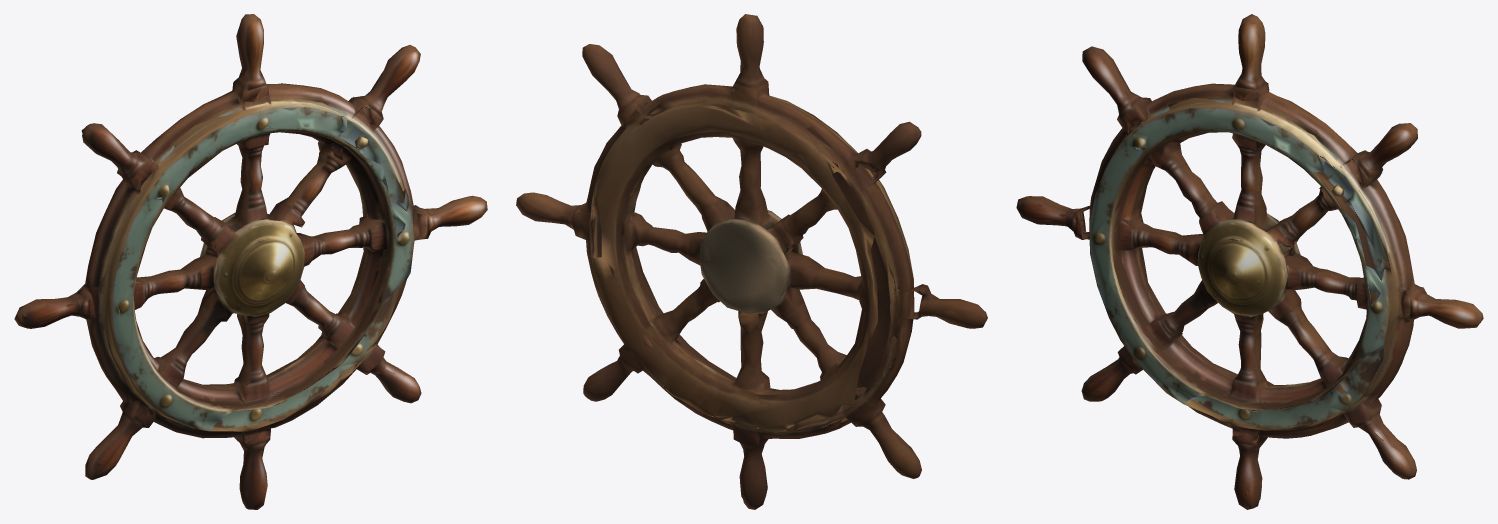
Rendered from wheel.fbx.
3 renders of one model, left to right at view 1: azimuth 30°, elevation 25°; view 2: azimuth 150°, elevation 25°; view 3: azimuth 330°, elevation 25°, orthographic.
Parts seen in each view (by area): view 1: Mesh_0.001; view 2: Mesh_0.001; view 3: Mesh_0.001.
Boxes of the visible parts, x1=… form: Mesh_0.001: x1=14, y1=14, x2=487, y2=509; Mesh_0.001: x1=516, y1=14, x2=987, y2=509; Mesh_0.001: x1=1016, y1=14, x2=1483, y2=509.
Size of the model in its own units: 0.9008 by 0.9058 by 0.1041.
1 material, 1 textured.
